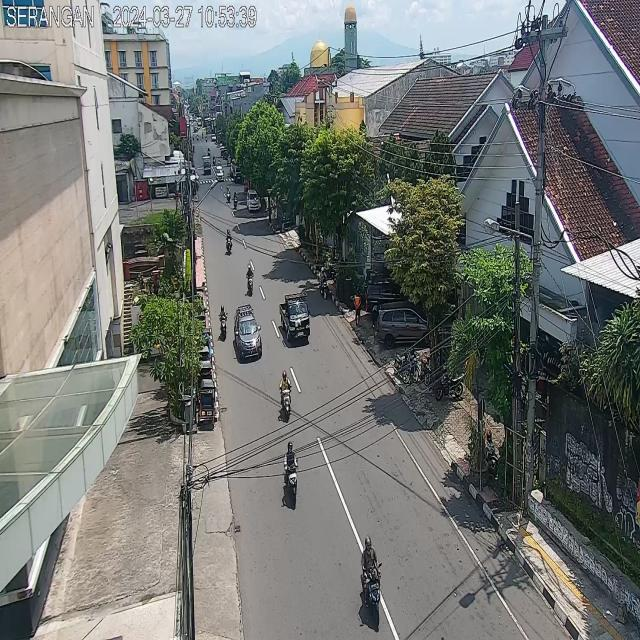car: (235, 305, 262, 361), (246, 190, 259, 212)
motorcycle: (358, 529, 382, 627), (283, 437, 299, 511), (277, 365, 294, 424), (219, 302, 227, 342), (246, 263, 255, 297), (224, 229, 233, 256), (225, 184, 232, 204), (234, 188, 237, 210)
truck: (278, 291, 310, 342)
